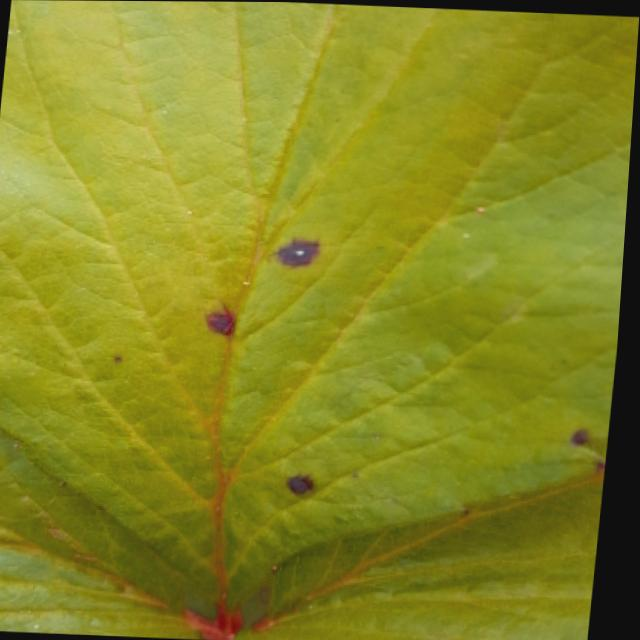Leaf Spot: (0, 0, 639, 617)
